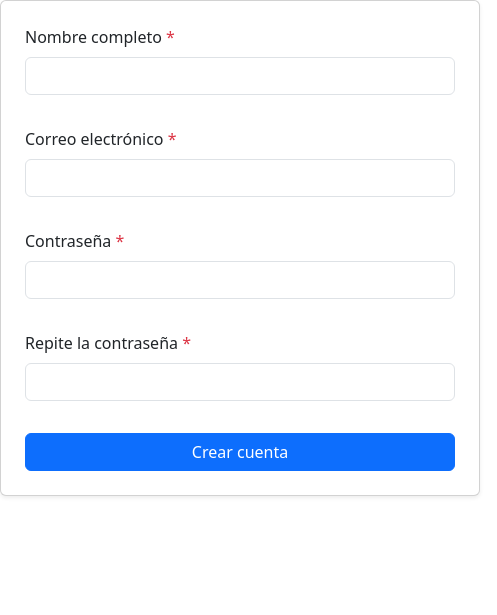
Test case: FormularioRegistro › valida todos los campos obligatorios y que las contraseñas coincidan
Step 1. Click the button "Crear cuenta" → click(240, 452), box [25,433,455,471]
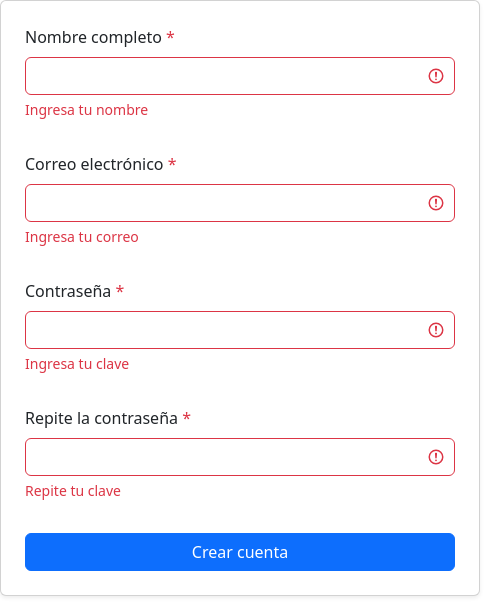
Now the text "Ingresa tu nombre" is shown, box [25,100,148,119]
Now the text "Ingresa tu correo" is shown, box [25,227,139,246]
Now the text "Ingresa tu clave" is shown, box [25,354,129,373]
